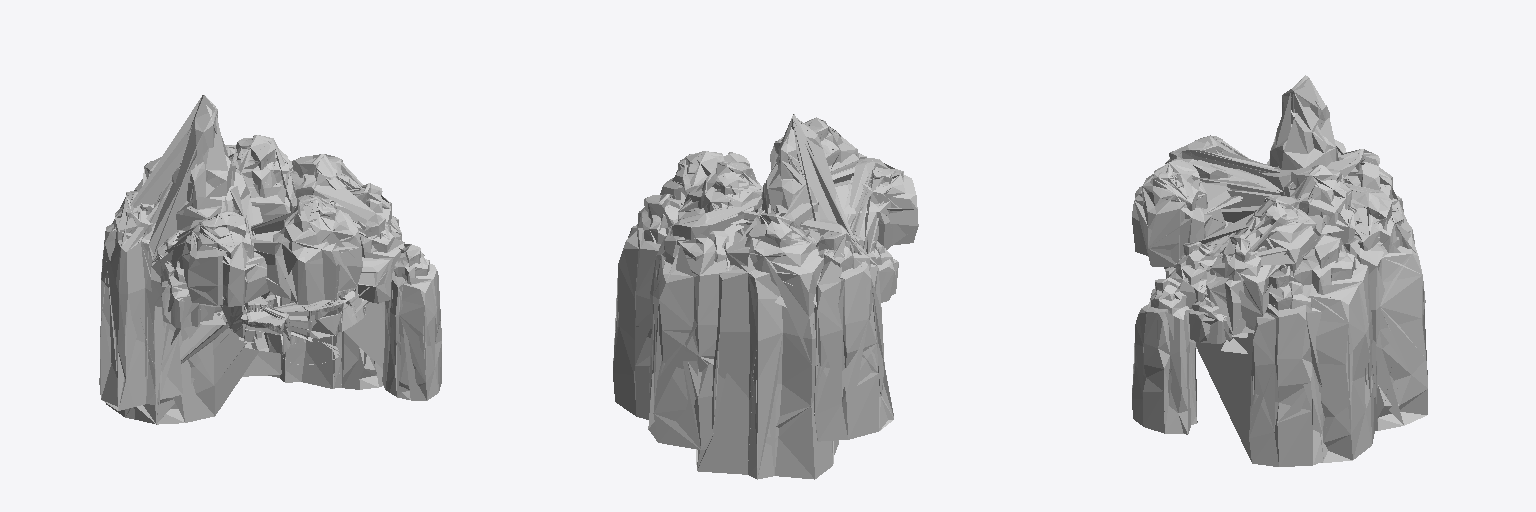
File: cellQuarry_CaveHub_Proxy-sharedassets3.assets-601.obj
3 views of the same model, side by side, from view 1: azimuth 30°, elevation 25°; view 2: azimuth 150°, elevation 25°; view 3: azimuth 270°, elevation 25° (orthographic).
Visible parts, largest first — view 1: cellQuarry_CaveHub_Proxy_1, cellQuarry_CaveHub_Proxy_4, cellQuarry_CaveHub_Proxy_0; view 2: cellQuarry_CaveHub_Proxy_4, cellQuarry_CaveHub_Proxy_1; view 3: cellQuarry_CaveHub_Proxy_4, cellQuarry_CaveHub_Proxy_1, cellQuarry_CaveHub_Proxy_0.
Part boxes in pixels (bbox=[...]): cellQuarry_CaveHub_Proxy_1: bbox=[100, 95, 441, 423]; cellQuarry_CaveHub_Proxy_4: bbox=[99, 95, 441, 424]; cellQuarry_CaveHub_Proxy_0: bbox=[158, 195, 360, 304]; cellQuarry_CaveHub_Proxy_4: bbox=[613, 114, 917, 479]; cellQuarry_CaveHub_Proxy_1: bbox=[613, 114, 918, 479]; cellQuarry_CaveHub_Proxy_4: bbox=[1132, 75, 1427, 466]; cellQuarry_CaveHub_Proxy_1: bbox=[1132, 78, 1427, 463]; cellQuarry_CaveHub_Proxy_0: bbox=[1132, 159, 1225, 266].
Bounding box in the file's own units: 178 × 207 × 172.